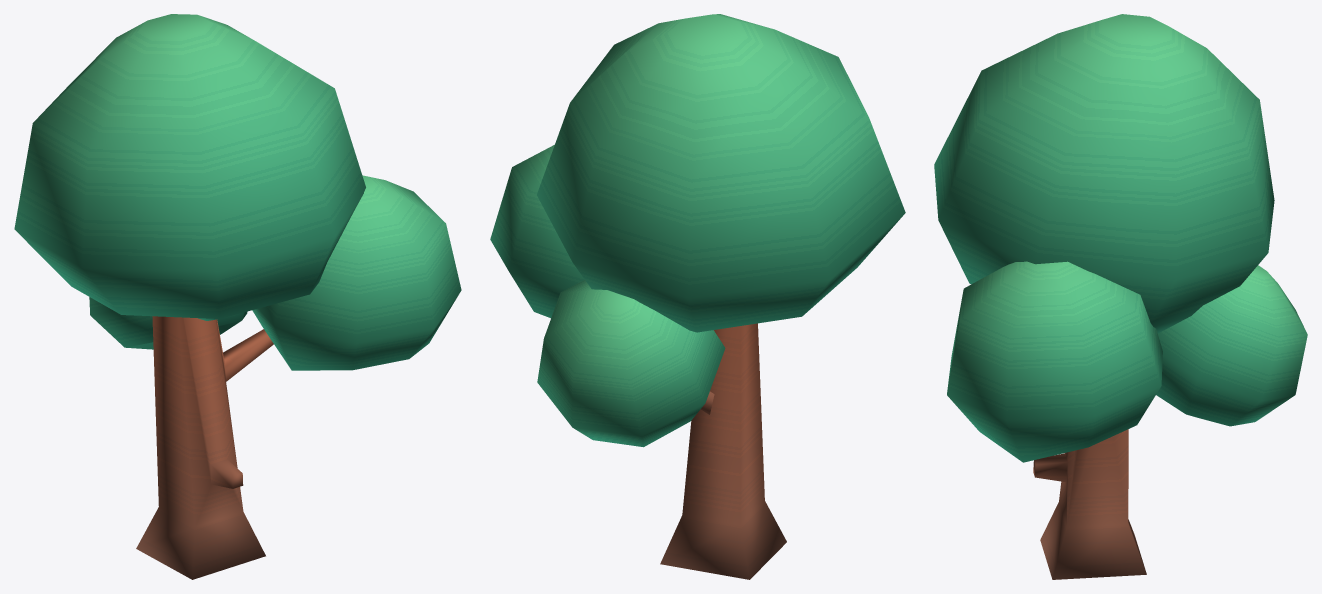
The model's file is tree_spherical_d.glb.
3 views of the same model, side by side, from view 1: azimuth 30°, elevation 25°; view 2: azimuth 150°, elevation 25°; view 3: azimuth 270°, elevation 25° (orthographic). The views are drawn at different scales.
Parts seen in each view (by area): view 1: tree_spherical__Mesh_003; view 2: tree_spherical__Mesh_003; view 3: tree_spherical__Mesh_003.
Part boxes in pixels (left/top/right/bottom): tree_spherical__Mesh_003: left=14, top=14, right=461, bottom=579; tree_spherical__Mesh_003: left=490, top=14, right=905, bottom=579; tree_spherical__Mesh_003: left=934, top=14, right=1307, bottom=579.
Bounding box in the file's own units: 1.29 × 1.73 × 1.1.
1 material, 1 textured.
